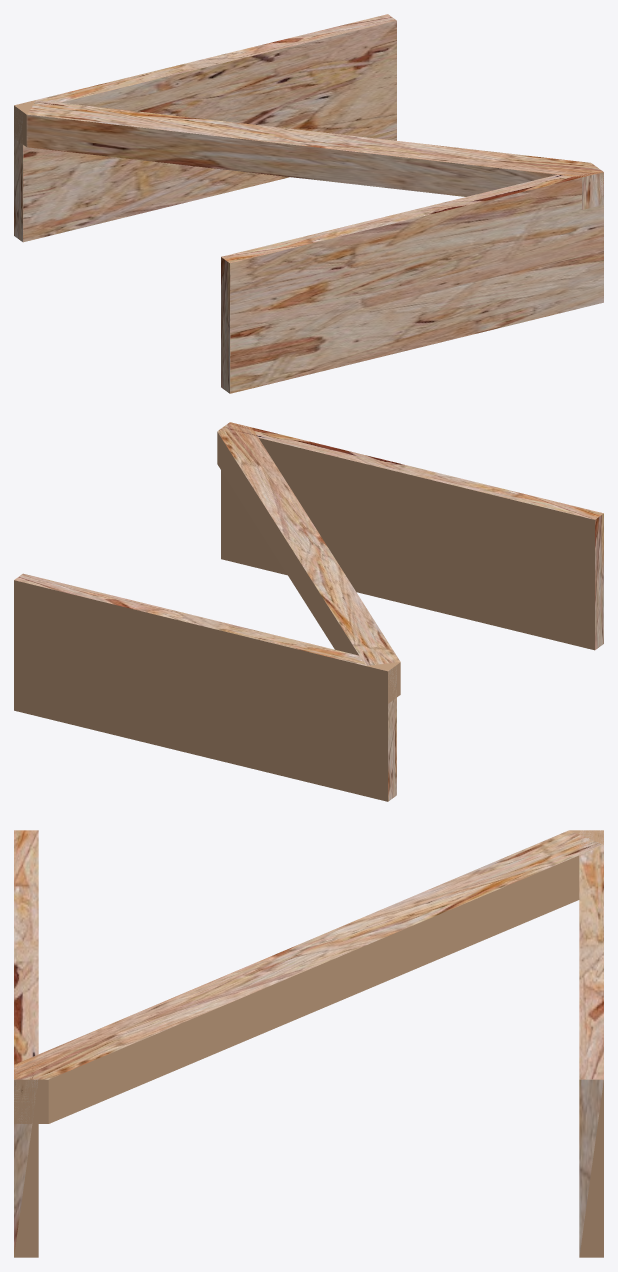
The picture shows the model from 3 angles, top to bottom: view 1: azimuth 30°, elevation 25°; view 2: azimuth 150°, elevation 25°; view 3: azimuth 270°, elevation 25°; orthographic projection. The views are drawn at different scales.
Visible parts, largest first — view 1: base_link; view 2: base_link; view 3: base_link.
Part boxes in pixels (<box>): base_link: <box>14,14,603,393</box>; base_link: <box>14,422,603,801</box>; base_link: <box>14,830,603,1257</box>.
Size of the model in its own units: 1.2 by 1.2 by 0.4.
Materials: 1 (1 with a texture image).
